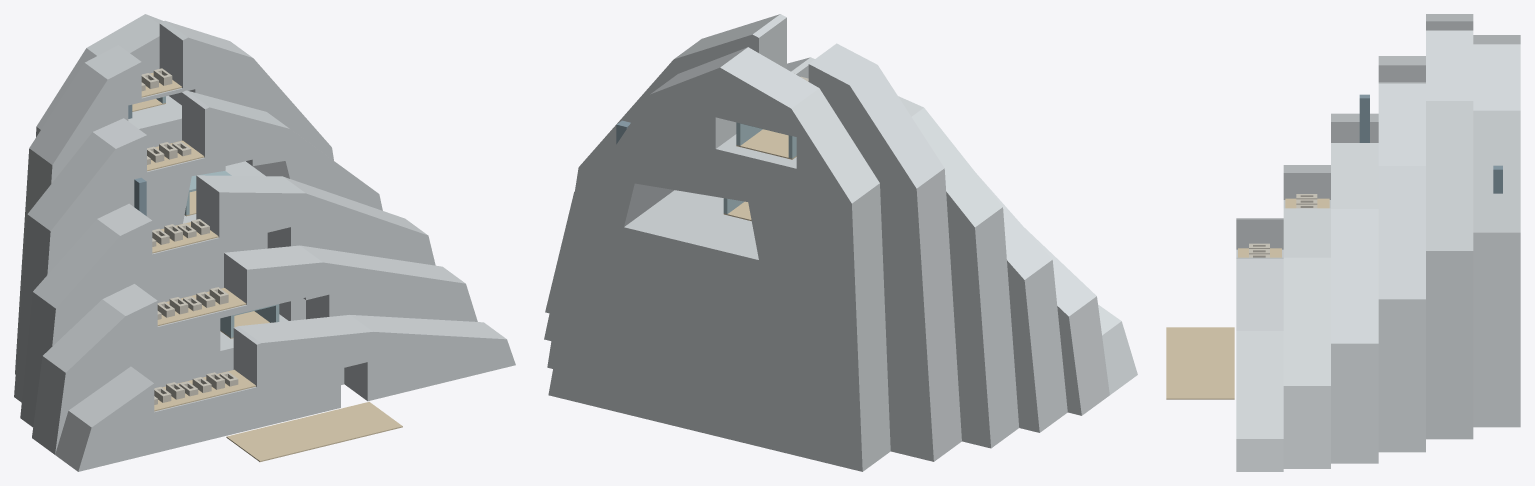
3 renders of one model, left to right at view 1: azimuth 30°, elevation 25°; view 2: azimuth 150°, elevation 25°; view 3: azimuth 270°, elevation 25°, orthographic. The views are drawn at different scales.
Parts seen in each view (by area): view 1: N2_inhabited_stratum_0, N2_inhabited_stratum_1, N2_inhabited_stratum_2, N2_inhabited_stratum_3, N2_inhabited_stratum_4, N2_ground_forum, N2_inhabited_stratum_5, N2_ground_0, N2_ground_1, N2_ground_2; view 2: N2_inhabited_stratum_5, N2_inhabited_stratum_4, N2_inhabited_stratum_3, N2_inhabited_stratum_2, N2_inhabited_stratum_1, N2_inhabited_stratum_0, N2_university_floor; view 3: N2_inhabited_stratum_4, N2_inhabited_stratum_3, N2_inhabited_stratum_5, N2_inhabited_stratum_2, N2_inhabited_stratum_1, N2_inhabited_stratum_0, N2_ground_forum, N2_lift_2300.
Boxes of the visible parts, x1=… form: N2_inhabited_stratum_0: x1=55, y1=315, x2=515, y2=471; N2_inhabited_stratum_1: x1=32, y1=245, x2=477, y2=454; N2_inhabited_stratum_2: x1=20, y1=175, x2=435, y2=427; N2_inhabited_stratum_3: x1=14, y1=90, x2=382, y2=402; N2_inhabited_stratum_4: x1=15, y1=20, x2=333, y2=374; N2_ground_forum: x1=226, y1=401, x2=402, y2=461; N2_inhabited_stratum_5: x1=36, y1=14, x2=247, y2=168; N2_ground_0: x1=154, y1=369, x2=255, y2=411; N2_ground_1: x1=157, y1=288, x2=246, y2=326; N2_ground_2: x1=152, y1=222, x2=218, y2=253; N2_inhabited_stratum_5: x1=548, y1=47, x2=890, y2=471; N2_inhabited_stratum_4: x1=547, y1=14, x2=961, y2=461; N2_inhabited_stratum_3: x1=544, y1=57, x2=1019, y2=448; N2_inhabited_stratum_2: x1=545, y1=173, x2=1067, y2=432; N2_inhabited_stratum_1: x1=1025, y1=228, x2=1109, y2=415; N2_inhabited_stratum_0: x1=1098, y1=304, x2=1137, y2=394; N2_university_floor: x1=736, y1=129, x2=796, y2=159; N2_inhabited_stratum_4: x1=1426, y1=14, x2=1473, y2=439; N2_inhabited_stratum_3: x1=1378, y1=56, x2=1425, y2=452; N2_inhabited_stratum_5: x1=1473, y1=35, x2=1520, y2=427; N2_inhabited_stratum_2: x1=1331, y1=113, x2=1378, y2=463; N2_inhabited_stratum_1: x1=1283, y1=165, x2=1330, y2=468; N2_inhabited_stratum_0: x1=1236, y1=218, x2=1283, y2=471; N2_ground_forum: x1=1166, y1=327, x2=1234, y2=399; N2_lift_2300: x1=1359, y1=94, x2=1369, y2=142.
Bounding box in the file's own units: 4900 × 3402 × 3365.
